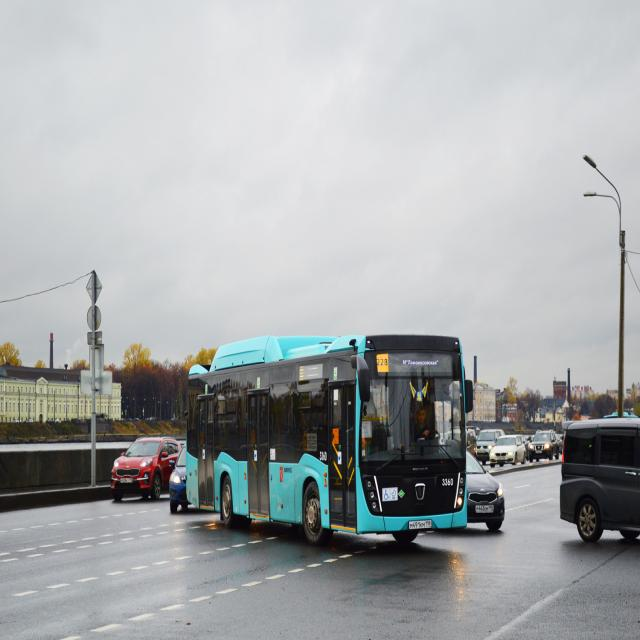number-of-bus: (376, 356, 389, 369)
